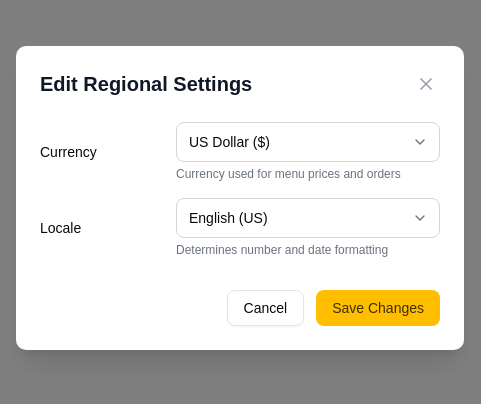
TenantSettingsForm › Form Submission - Error › should clear error when resubmitting
The width and height of the screenshot is (481, 404).
Note: First submission - error
Click the button "Save Changes" at (378, 308), box [316,290,440,326]
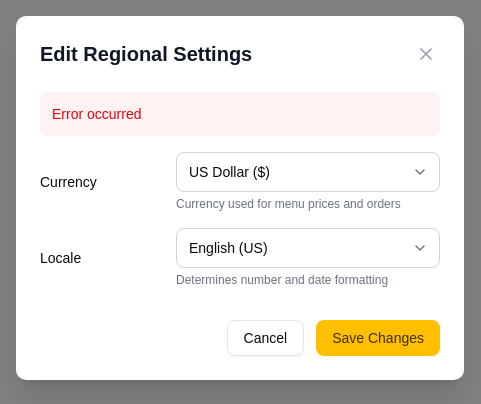
Check: the text "Error occurred" is shown, box [40,92,440,136]
Note: Second submission - the error should be cleared during submit
Click the button "Save Changes" at (378, 338), box [316,320,440,356]
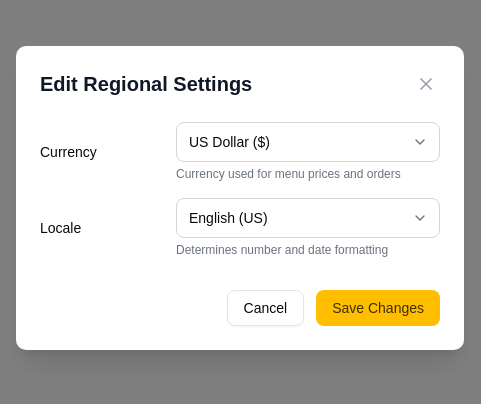
Check: the text "Error occurred" is gone
